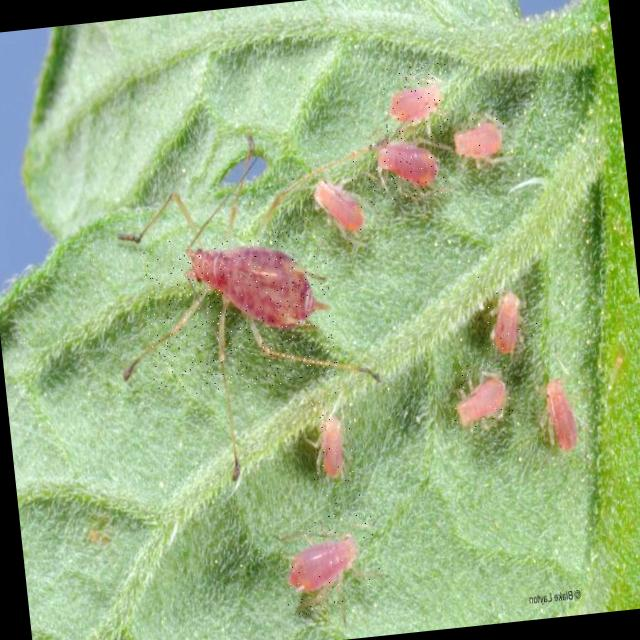aphid: (139, 224, 340, 398), (276, 506, 384, 620), (289, 160, 373, 256), (301, 388, 361, 506), (532, 353, 592, 470), (363, 127, 451, 206), (438, 97, 514, 175), (378, 61, 454, 136), (476, 270, 540, 357), (445, 359, 519, 433)
